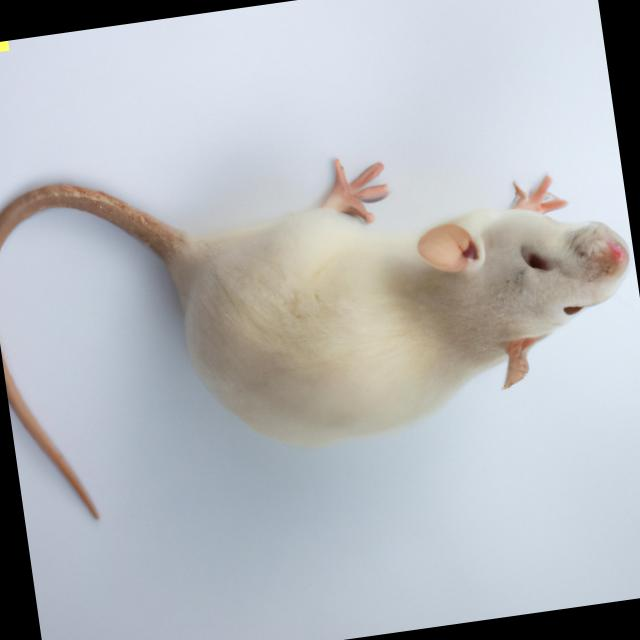rodents: (148, 114, 640, 505)
